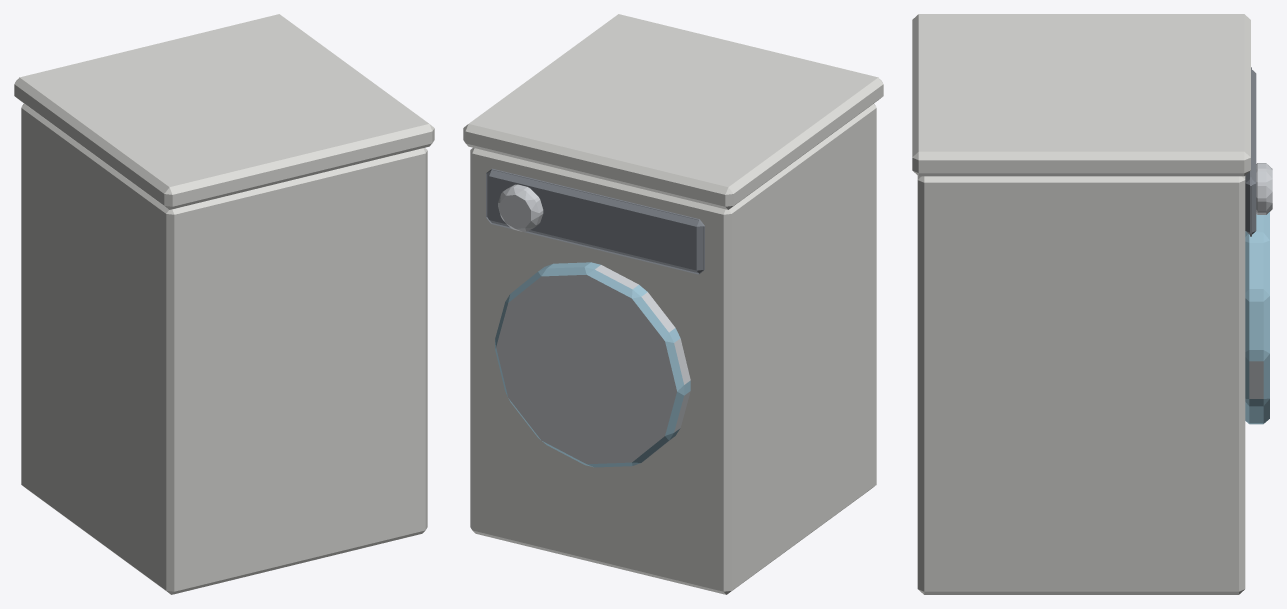
The model's file is 家电_洗衣机_01.fbx.
3 views of the same model, side by side, from view 1: azimuth 30°, elevation 25°; view 2: azimuth 150°, elevation 25°; view 3: azimuth 270°, elevation 25° (orthographic). The views are drawn at different scales.
Visible parts, largest first — view 1: 机身, 顶盖.005; view 2: 机身, 顶盖.005, 视窗, 控制面板, 旋钮; view 3: 机身, 顶盖.005, 视窗, 控制面板, 旋钮.
Part boxes in pixels (box(x1,y1,x2,y2)): 机身: box(21, 104, 427, 594); 顶盖.005: box(14, 14, 434, 209); 机身: box(470, 104, 876, 594); 顶盖.005: box(463, 14, 883, 209); 视窗: box(495, 262, 690, 467); 控制面板: box(486, 168, 704, 274); 旋钮: box(498, 184, 543, 231); 机身: box(917, 176, 1245, 594); 顶盖.005: box(912, 14, 1250, 176); 视窗: box(1245, 212, 1269, 424); 控制面板: box(1245, 67, 1256, 236); 旋钮: box(1256, 163, 1272, 214).
Bounding box in the file's own units: 62 × 90 × 66.
